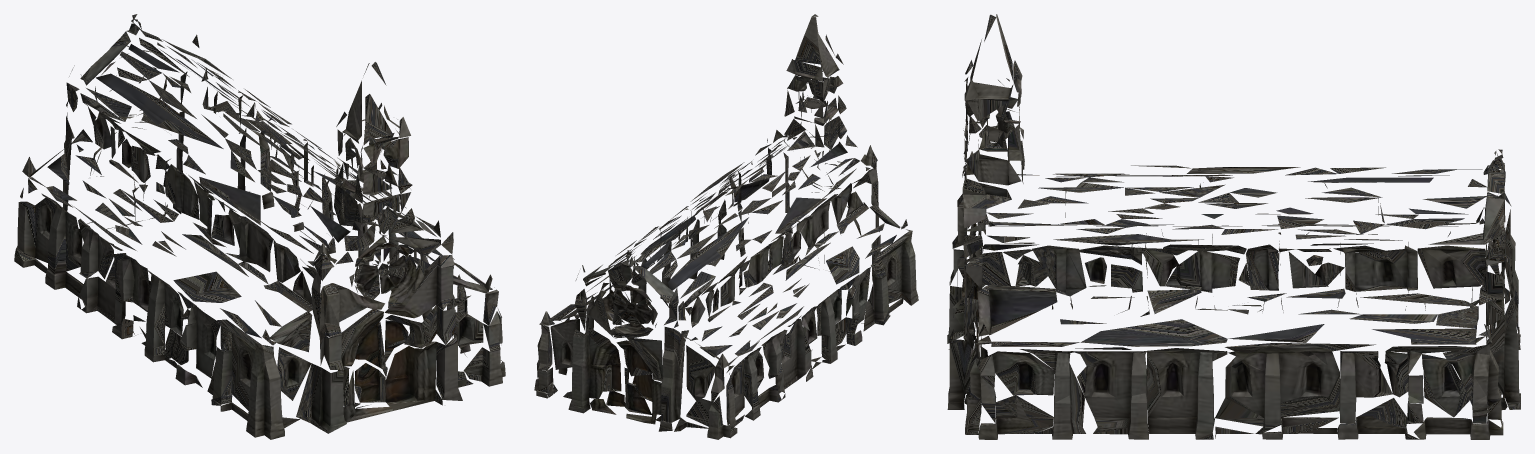
The model's file is bld_cathedral_a_LOD2.glb.
3 views of the same model, side by side, from view 1: azimuth 30°, elevation 25°; view 2: azimuth 150°, elevation 25°; view 3: azimuth 270°, elevation 25° (orthographic). The views are drawn at different scales.
Visible parts, largest first — view 1: geometry_0; view 2: geometry_0; view 3: geometry_0.
Boxes of the visible parts, left/top/right/bottom form: geometry_0: left=14, top=14, right=505, bottom=439; geometry_0: left=534, top=14, right=918, bottom=439; geometry_0: left=947, top=14, right=1520, bottom=439.
Size of the model in its own units: 13.98 by 18.04 by 26.
1 material, 1 textured.
